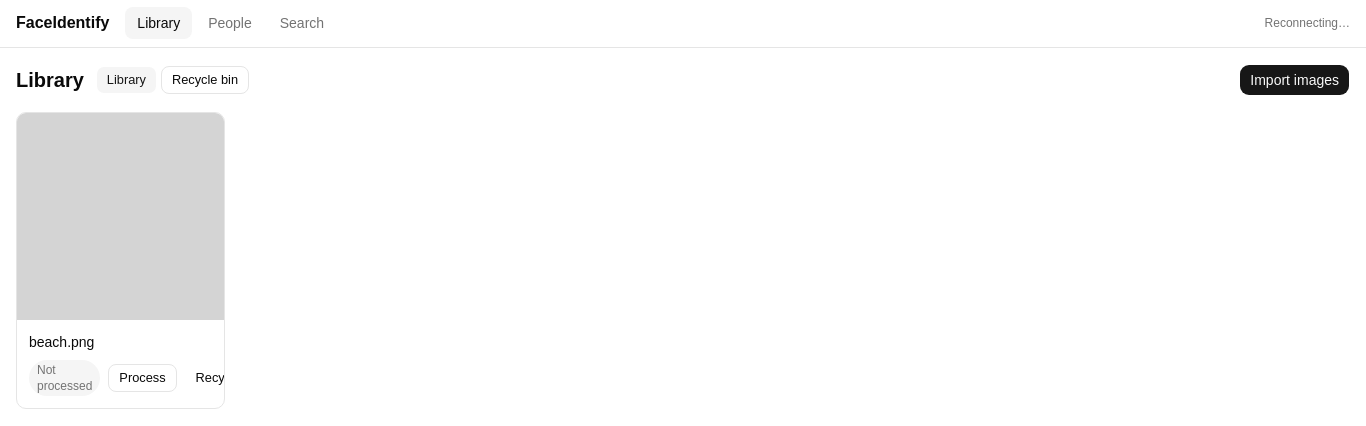
Scenario: the library › requests processing and refreshes the list
Step 1. Click the button with aria-label "Process beach.png" → (142, 378), box [108,364,177,392]
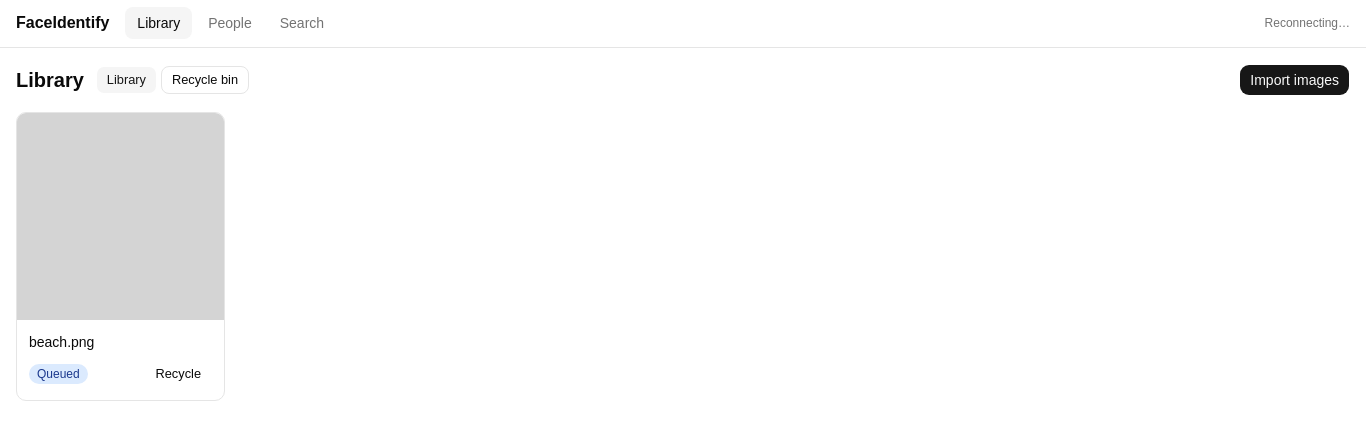
Now the text "Queued" is shown, box [29,364,88,384]
